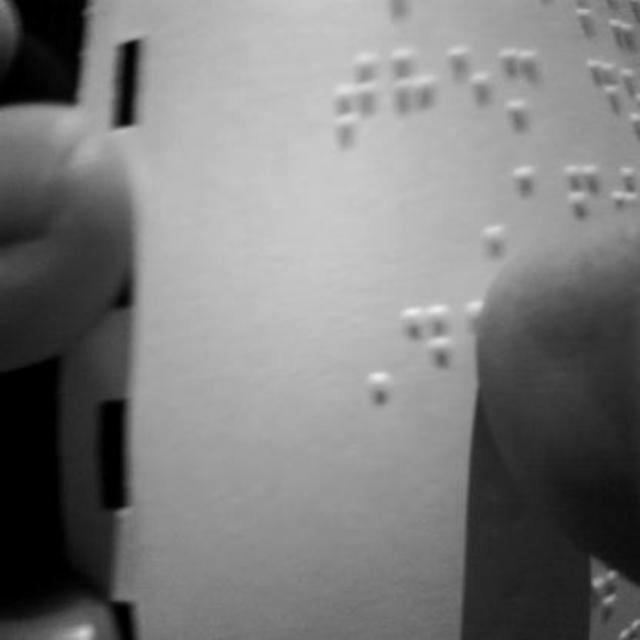braiile: (397, 298, 455, 408), (388, 45, 438, 141), (448, 41, 492, 141), (500, 44, 544, 138), (338, 47, 379, 143)
